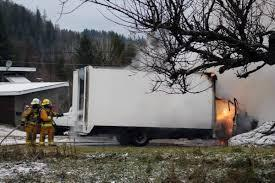fire: (205, 89, 243, 137)
